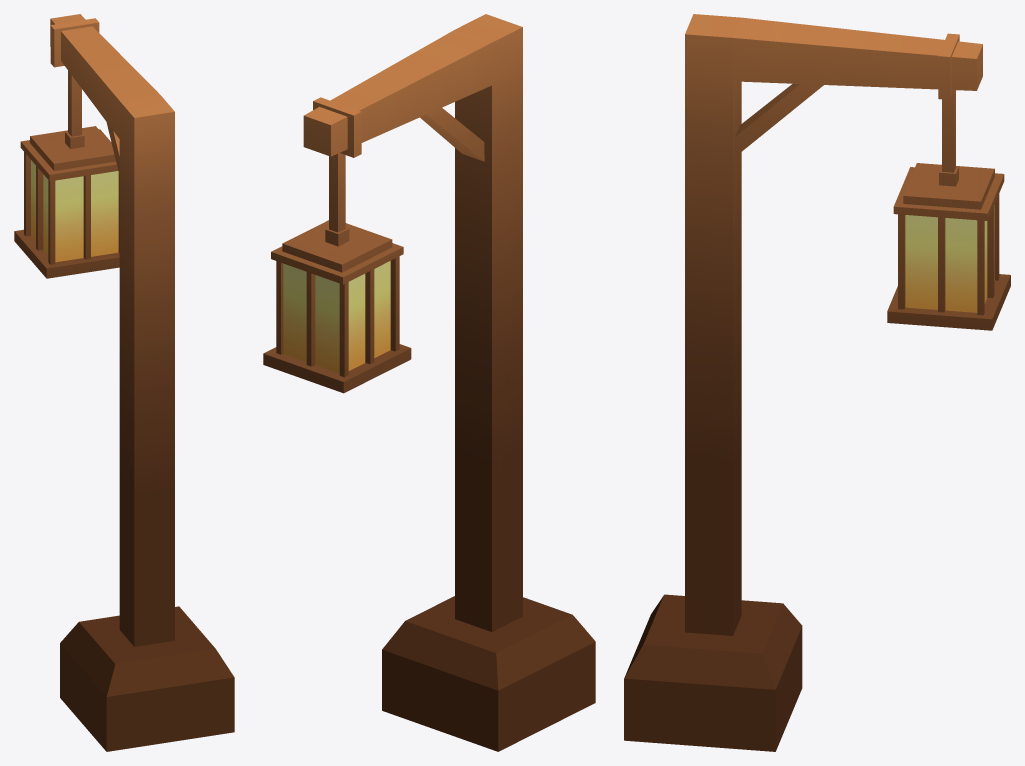
File: StreetLamp.FBX
3 renders of one model, left to right at view 1: azimuth 30°, elevation 25°; view 2: azimuth 150°, elevation 25°; view 3: azimuth 270°, elevation 25°, orthographic. The views are drawn at different scales.
Parts seen in each view (by area): view 1: polySurface53, polySurface55; view 2: polySurface53, polySurface55; view 3: polySurface53.
Boxes of the visible parts, <box> form: polySurface53: <box>14,14,234,751</box>; polySurface55: <box>36,166,43,250</box>; polySurface53: <box>263,14,595,751</box>; polySurface55: <box>365,269,374,364</box>; polySurface53: <box>624,14,1010,751</box>.
Bounding box in the file's own units: 11.68 × 46.08 × 23.46.
